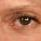eye: (21, 17, 30, 24)
